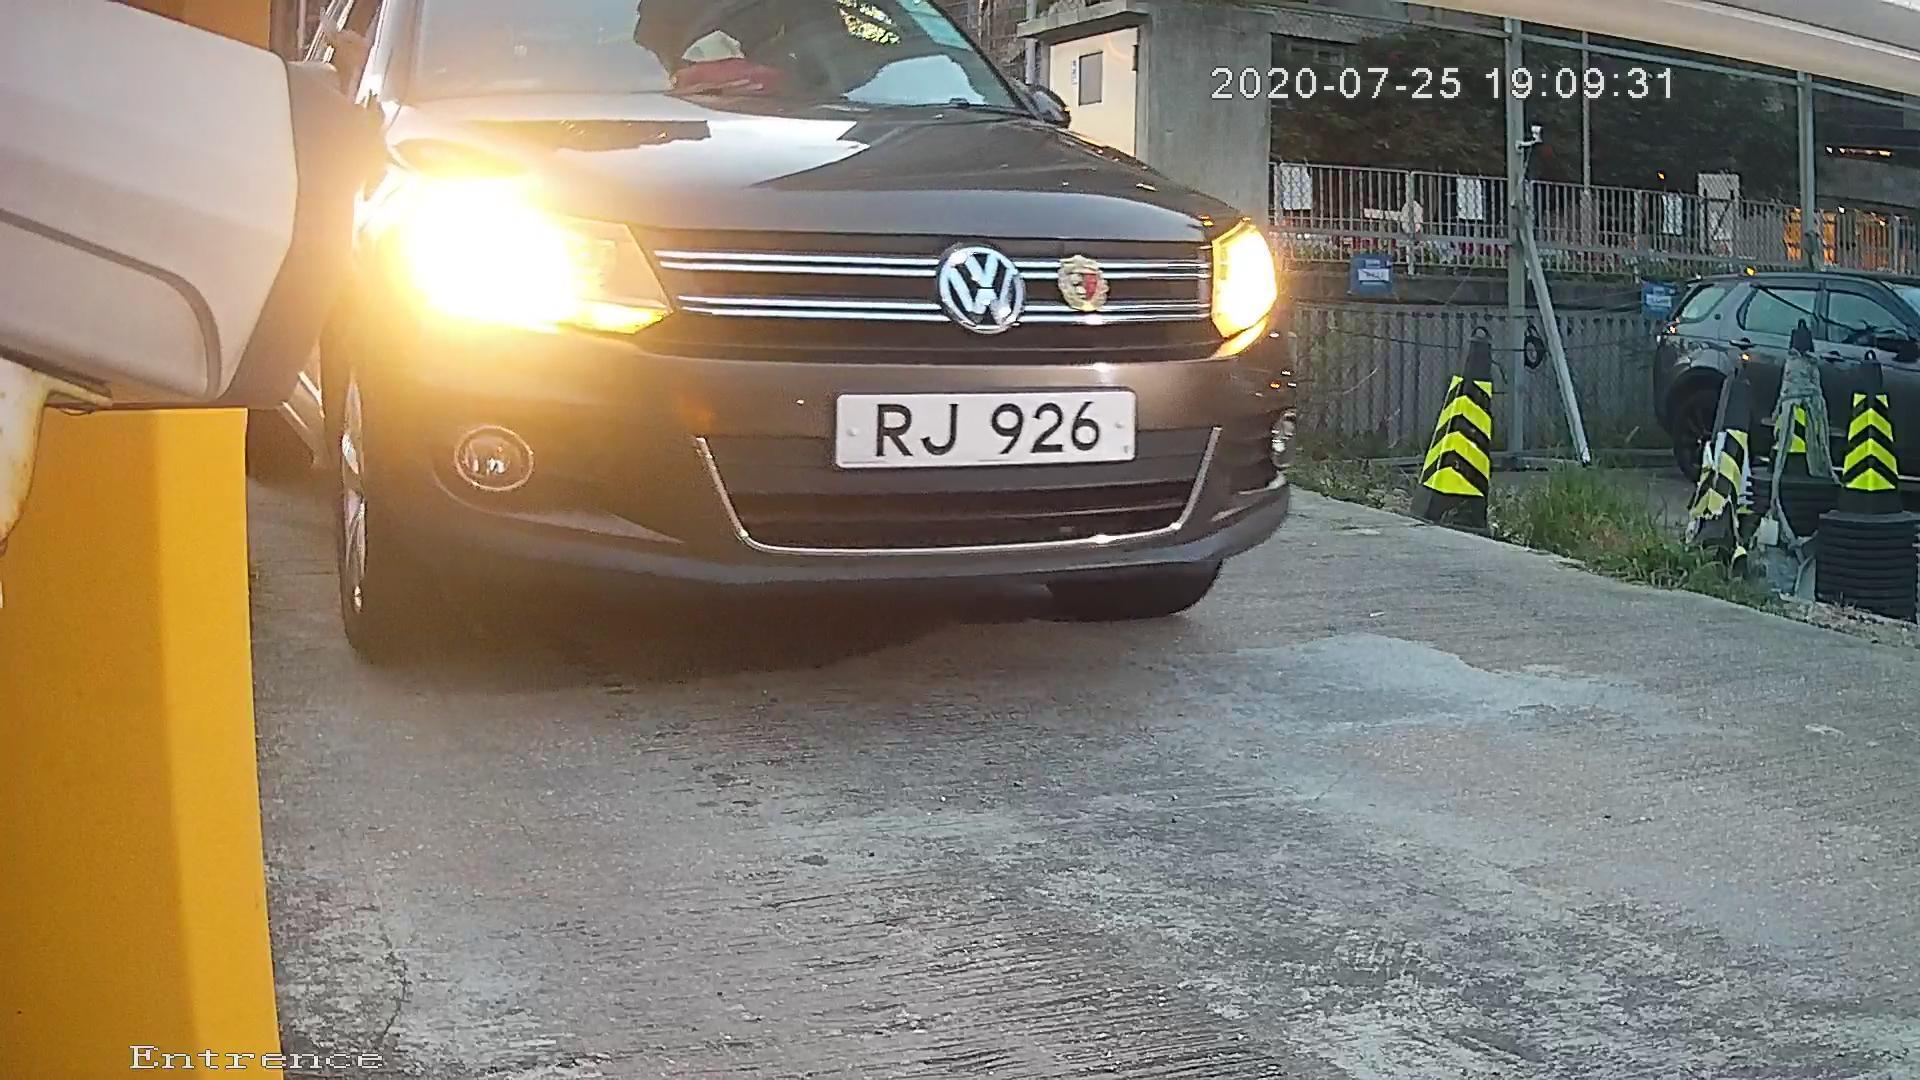privatecar: (266, 5, 1321, 676)
